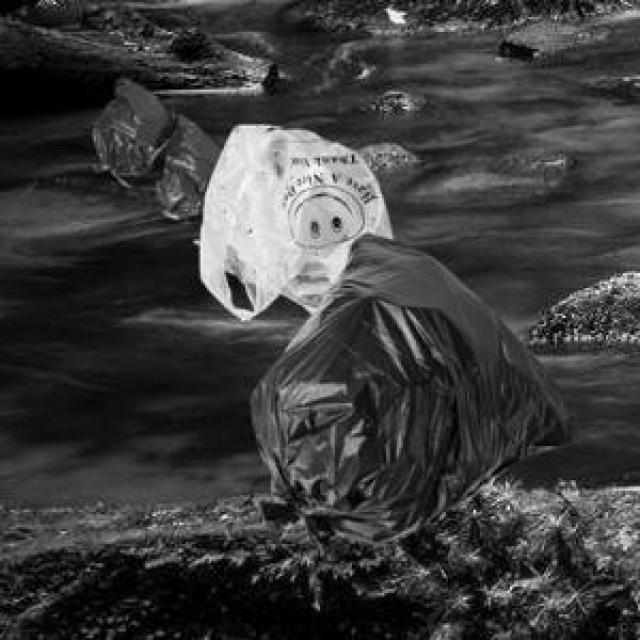miscellaneous trash: (248, 228, 570, 557), (90, 75, 220, 213)
